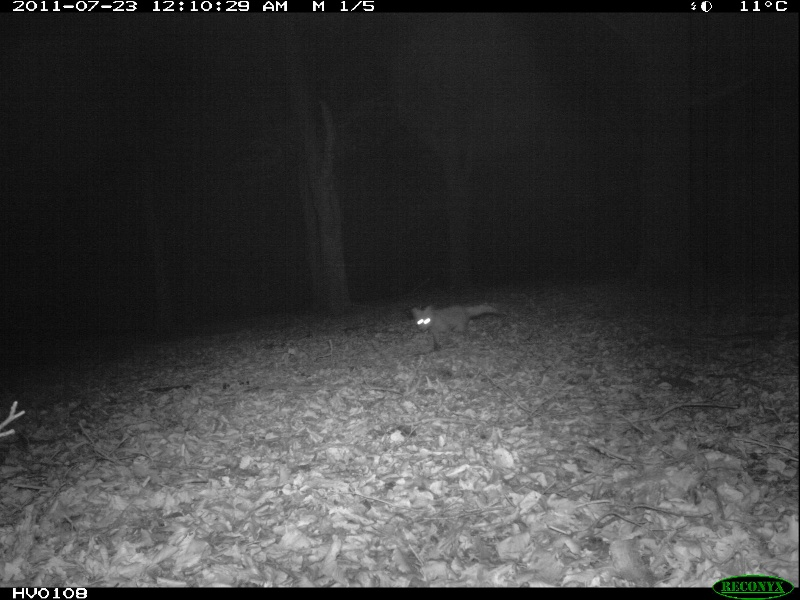fox: (408, 301, 508, 353)
